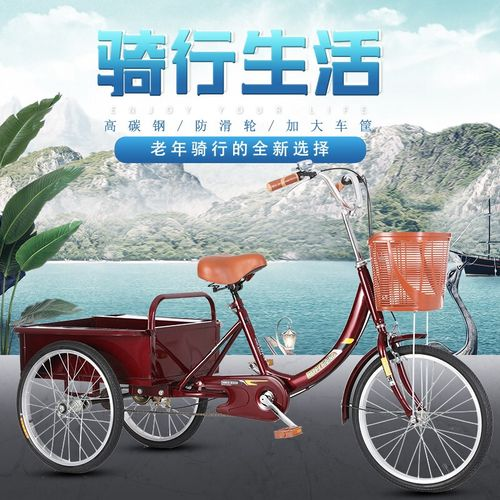empty: (21, 158, 494, 493)
